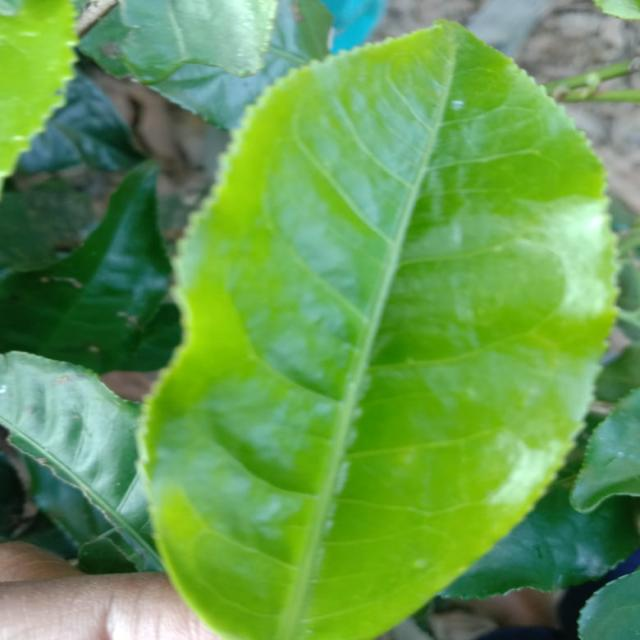Category B(2-4 days): (126, 11, 628, 640)
